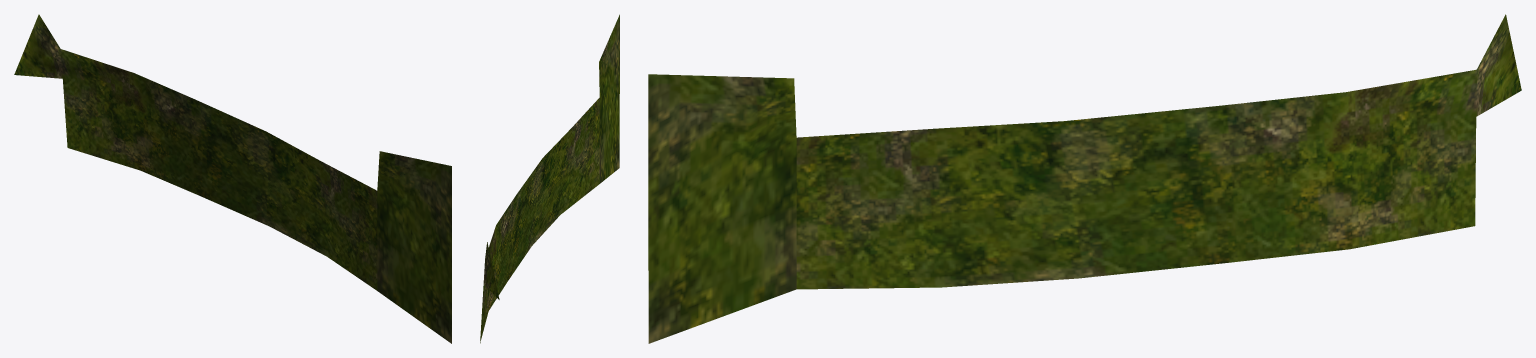
Rendered from OVERHILL_A_01_OBJECT41.fbx.
3 renders of one model, left to right at view 1: azimuth 30°, elevation 25°; view 2: azimuth 150°, elevation 25°; view 3: azimuth 270°, elevation 25°, orthographic. The views are drawn at different scales.
Visible parts, largest first — view 1: OVERHILL_A_01_OBJECT41; view 2: OVERHILL_A_01_OBJECT41; view 3: OVERHILL_A_01_OBJECT41.
Boxes of the visible parts, x1=… form: OVERHILL_A_01_OBJECT41: x1=14, y1=14, x2=451, y2=343; OVERHILL_A_01_OBJECT41: x1=480, y1=14, x2=619, y2=343; OVERHILL_A_01_OBJECT41: x1=648, y1=14, x2=1521, y2=343.
Size of the model in its own units: 18784 by 21390 by 62802.
1 material, 1 textured.
